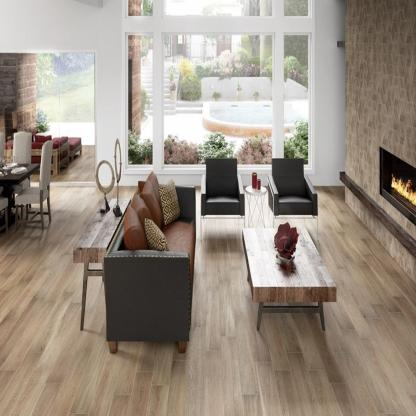Wooden floor: (0, 186, 415, 415)
